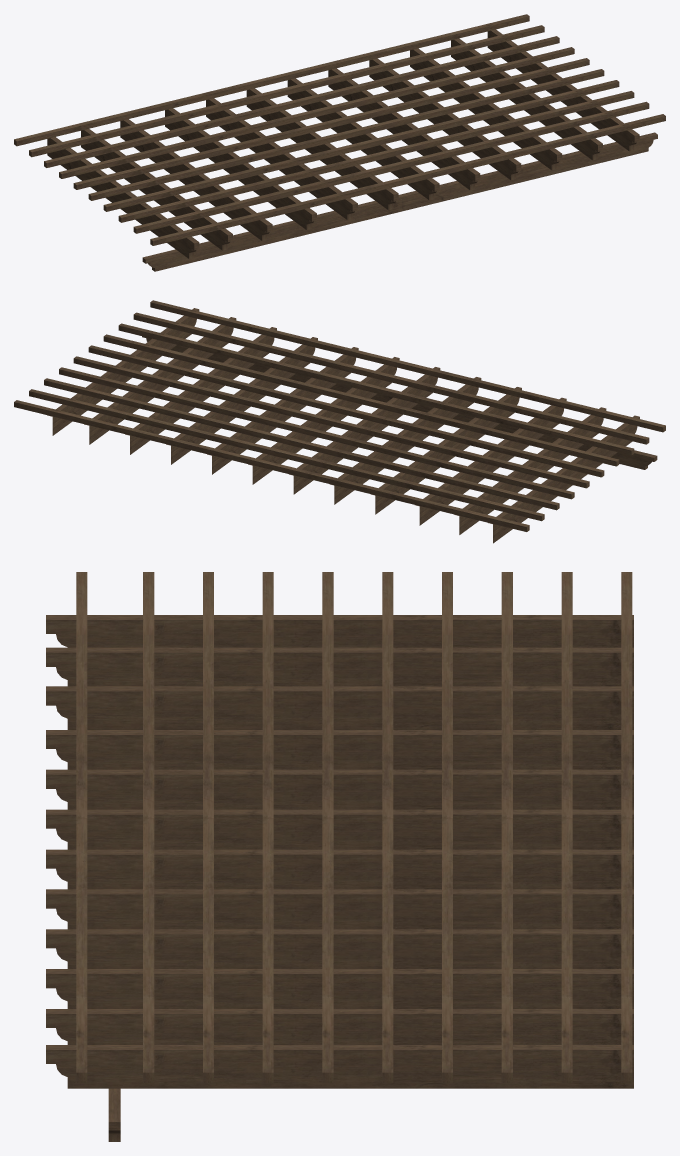
File: SM_Veranda_01.glb
3 renders of one model, top to bottom at view 1: azimuth 30°, elevation 25°; view 2: azimuth 150°, elevation 25°; view 3: azimuth 270°, elevation 25°, orthographic. The views are drawn at different scales.
Parts seen in each view (by area): view 1: SM_Veranda_01; view 2: SM_Veranda_01; view 3: SM_Veranda_01.
Boxes of the visible parts, x1,y1,x2,y2 form: SM_Veranda_01: [14, 14, 665, 271]; SM_Veranda_01: [14, 300, 665, 543]; SM_Veranda_01: [46, 572, 633, 1141].
Size of the model in its own units: 4.65 by 0.3384 by 2.31.
Materials: 1 (1 with a texture image).
